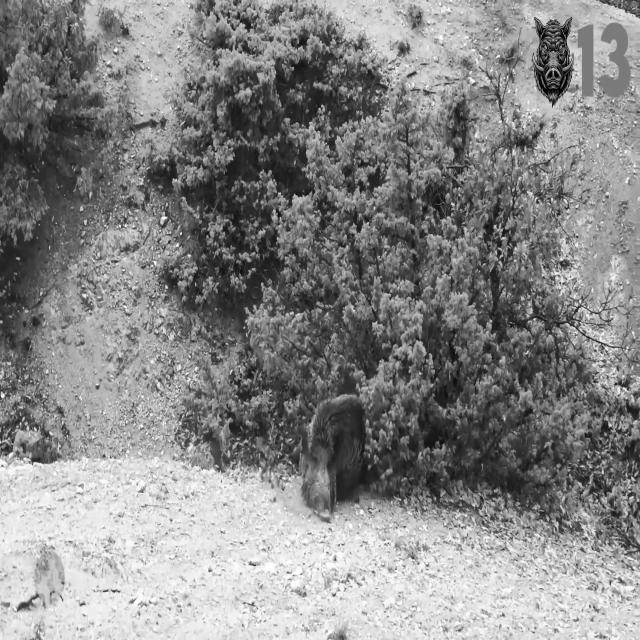boar: (301, 394, 363, 520), (533, 15, 575, 105)
